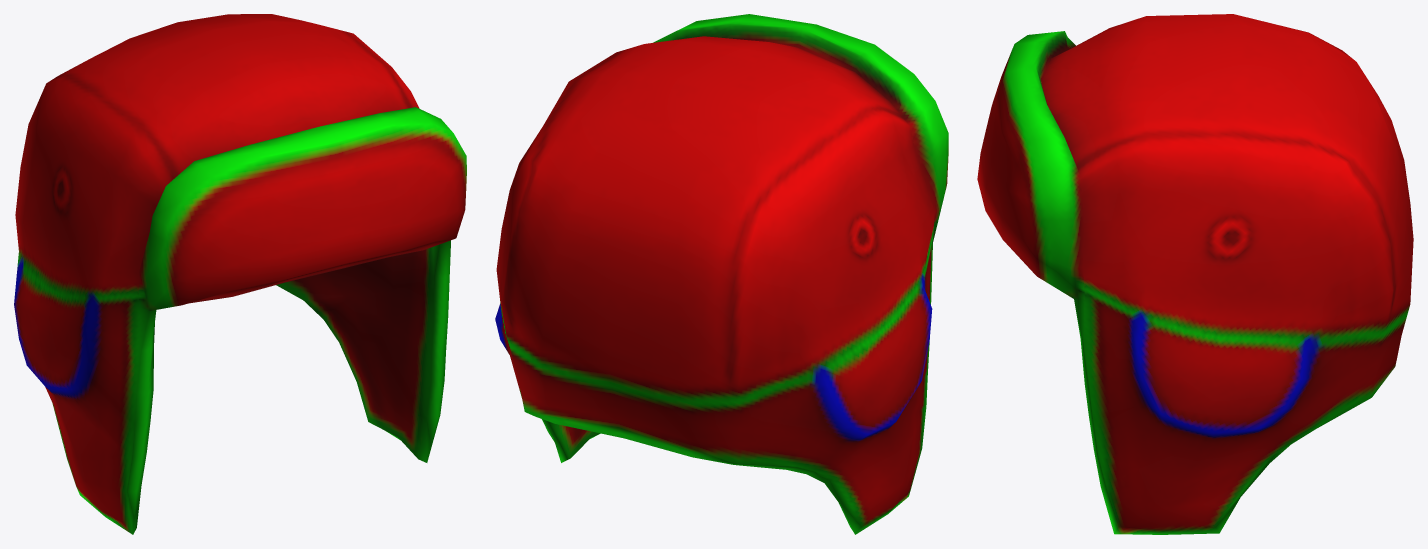
File: pasted__Outfit_Hat_TrapperHat.obj
3 views of the same model, side by side, from view 1: azimuth 30°, elevation 25°; view 2: azimuth 150°, elevation 25°; view 3: azimuth 270°, elevation 25° (orthographic).
Parts seen in each view (by area): view 1: pasted__Outfit_Hat_TrapperHat_0; view 2: pasted__Outfit_Hat_TrapperHat_0; view 3: pasted__Outfit_Hat_TrapperHat_0.
Part boxes in pixels (x1,y1,x2,y2): pasted__Outfit_Hat_TrapperHat_0: (14, 14, 466, 534); pasted__Outfit_Hat_TrapperHat_0: (495, 14, 948, 534); pasted__Outfit_Hat_TrapperHat_0: (977, 14, 1413, 534).
Bounding box in the file's own units: 0.2665 × 0.2921 × 0.276.
1 material, 1 textured.
